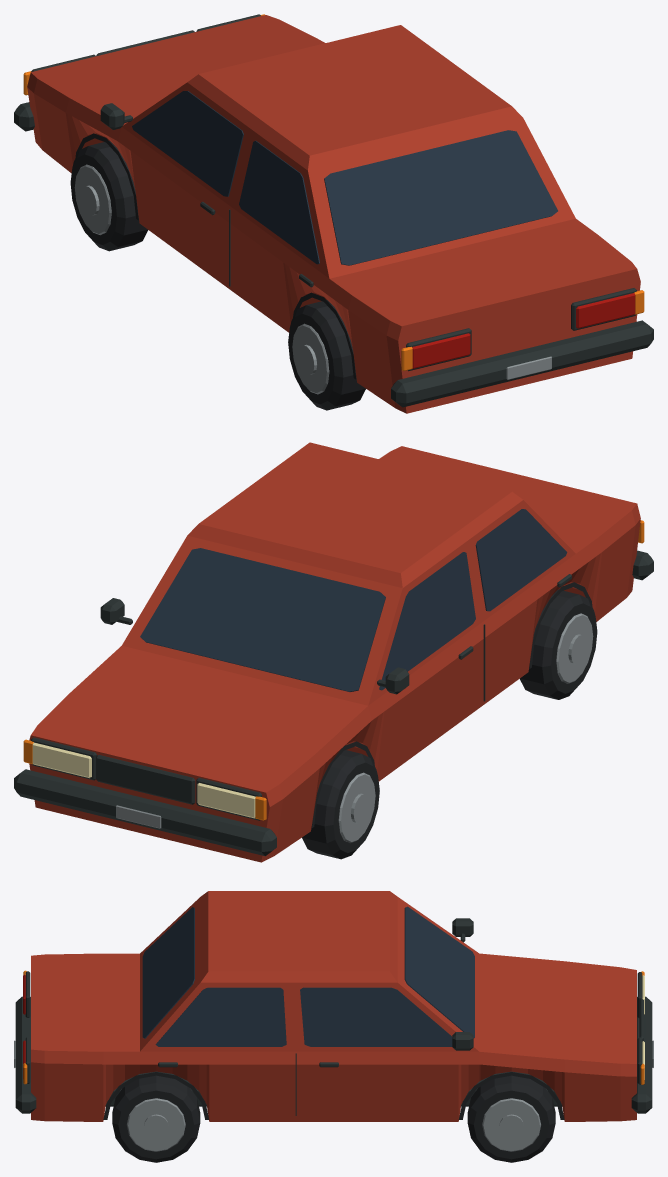
Rendered from 02_ClassicSedan.fbx.
The picture shows the model from 3 angles, top to bottom: view 1: azimuth 30°, elevation 25°; view 2: azimuth 150°, elevation 25°; view 3: azimuth 270°, elevation 25°; orthographic projection. The views are drawn at different scales.
Parts seen in each view (by area): view 1: Continuous body with open wheel arches.001, Raked cabin with chamfered roof.001, Framed rear windshield.001, Moulded bumper.003, Side glass -1 pane 1.001, Side glass -1 pane 0.001, WheelRL_ShapedSidewall.001, WheelFL_ShapedSidewall.001, WheelRL_Rim.001, WheelFL_Rim.001, Tail lamp.003, Tail lamp.002 (+2 smaller); view 2: Continuous body with open wheel arches.001, Raked cabin with chamfered roof.001, Framed opaque windshield.001, Moulded bumper.002, Side glass -1 pane 1.001, Side glass -1 pane 0.001, WheelRL_ShapedSidewall.001, WheelFL_ShapedSidewall.001, Inset radiator grille.001, WheelFL_Rim.001, WheelRL_Rim.001, Headlamp.003 (+2 smaller); view 3: Continuous body with open wheel arches.001, Raked cabin with chamfered roof.001, Side glass 1 pane 1.001, Side glass 1 pane 0.001, Framed opaque windshield.001, Framed rear windshield.001, WheelFR_ShapedSidewall.001, WheelRR_ShapedSidewall.001, WheelFR_Rim.001, WheelRR_Rim.001, Moulded bumper.003, Moulded bumper.002 (+5 smaller).
Part boxes in pixels (bbox=[...]): Continuous body with open wheel arches.001: bbox=[27, 15, 640, 413]; Raked cabin with chamfered roof.001: bbox=[122, 25, 575, 278]; Framed rear windshield.001: bbox=[324, 130, 557, 265]; Moulded bumper.003: bbox=[391, 320, 653, 407]; Side glass -1 pane 1.001: bbox=[132, 91, 243, 196]; Side glass -1 pane 0.001: bbox=[239, 140, 319, 264]; WheelRL_ShapedSidewall.001: bbox=[288, 300, 365, 410]; WheelFL_ShapedSidewall.001: bbox=[70, 140, 147, 251]; WheelRL_Rim.001: bbox=[292, 323, 329, 394]; WheelFL_Rim.001: bbox=[74, 164, 111, 235]; Tail lamp.003: bbox=[576, 293, 635, 328]; Tail lamp.002: bbox=[412, 333, 470, 368]; Continuous body with open wheel arches.001: bbox=[29, 446, 640, 862]; Raked cabin with chamfered roof.001: bbox=[122, 442, 575, 705]; Framed opaque windshield.001: bbox=[140, 548, 385, 691]; Moulded bumper.002: bbox=[14, 769, 276, 856]; Side glass -1 pane 1.001: bbox=[379, 552, 475, 690]; Side glass -1 pane 0.001: bbox=[475, 509, 567, 611]; WheelRL_ShapedSidewall.001: bbox=[520, 589, 597, 699]; WheelFL_ShapedSidewall.001: bbox=[302, 750, 379, 859]; Inset radiator grille.001: bbox=[96, 754, 195, 804]; WheelFL_Rim.001: bbox=[338, 772, 375, 843]; WheelRL_Rim.001: bbox=[556, 613, 593, 683]; Headlamp.003: bbox=[32, 742, 91, 778]; Continuous body with open wheel arches.001: bbox=[31, 953, 636, 1121]; Raked cabin with chamfered roof.001: bbox=[140, 891, 479, 1051]; Side glass 1 pane 1.001: bbox=[300, 987, 452, 1046]; Side glass 1 pane 0.001: bbox=[155, 987, 286, 1046]; Framed opaque windshield.001: bbox=[404, 906, 474, 1037]; Framed rear windshield.001: bbox=[142, 907, 194, 1038]; WheelFR_ShapedSidewall.001: bbox=[467, 1075, 555, 1162]; WheelRR_ShapedSidewall.001: bbox=[112, 1075, 200, 1162]; WheelFR_Rim.001: bbox=[482, 1098, 540, 1151]; WheelRR_Rim.001: bbox=[127, 1098, 185, 1151]; Moulded bumper.003: bbox=[15, 996, 36, 1113]; Moulded bumper.002: bbox=[631, 996, 652, 1113].
Size of the model in its own units: 205 by 145 by 465.
